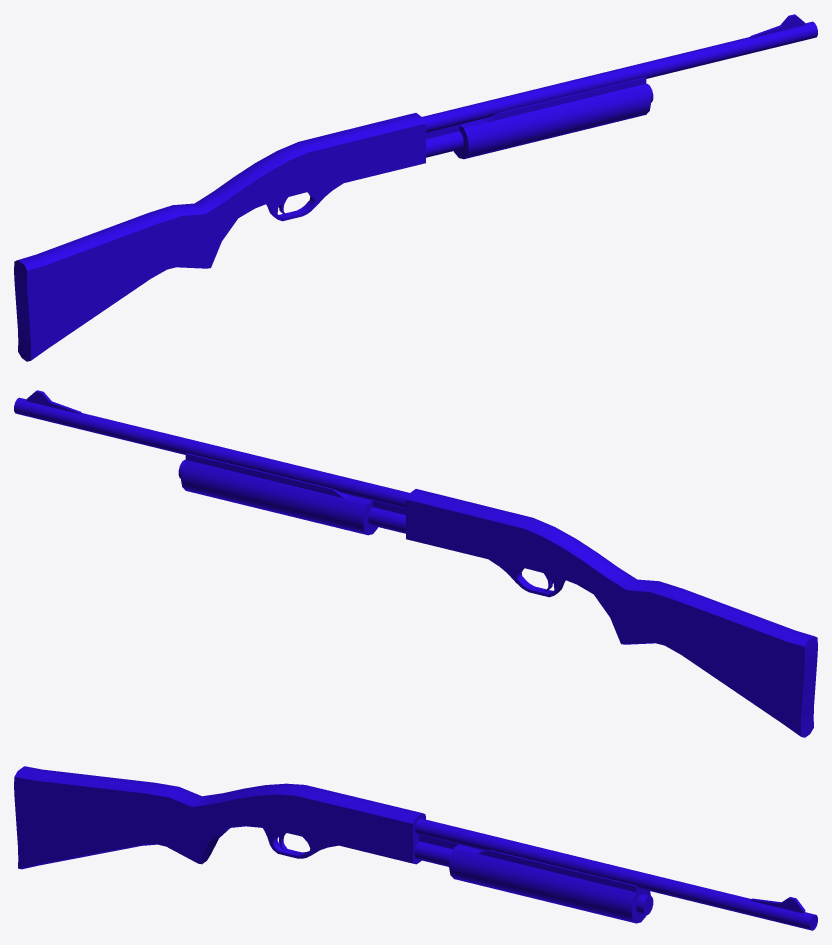
3 renders of one model, top to bottom at view 1: azimuth 30°, elevation 25°; view 2: azimuth 150°, elevation 25°; view 3: azimuth 330°, elevation 25°, orthographic.
Parts seen in each view (by area): view 1: Cube.001, Cylinder, Cylinder.001, Cube.002, Cylinder.002; view 2: Cube.001, Cylinder, Cylinder.001, Cube.002, Cylinder.002; view 3: Cube.001, Cylinder, Cylinder.001, Cylinder.002, Cube.002, Cylinder.001_Piece.
Boxes of the visible parts, box(x1,y1,x2,y2) form: Cube.001: box(14, 113, 425, 361); Cylinder: box(453, 77, 650, 159); Cylinder.001: box(422, 21, 817, 132); Cube.002: box(266, 183, 342, 221); Cylinder.002: box(426, 83, 653, 157); Cube.001: box(406, 489, 817, 737); Cylinder: box(181, 453, 378, 535); Cylinder.001: box(14, 397, 409, 508); Cube.002: box(489, 559, 565, 597); Cylinder.002: box(178, 459, 405, 533); Cube.001: box(14, 766, 425, 869); Cylinder: box(449, 844, 650, 923); Cylinder.001: box(415, 818, 817, 930); Cylinder.002: box(414, 841, 653, 915); Cube.002: box(263, 828, 338, 858); Cylinder.001_Piece: box(750, 897, 805, 913).
Size of the model in its own units: 94.27 by 17.81 by 4.07.
